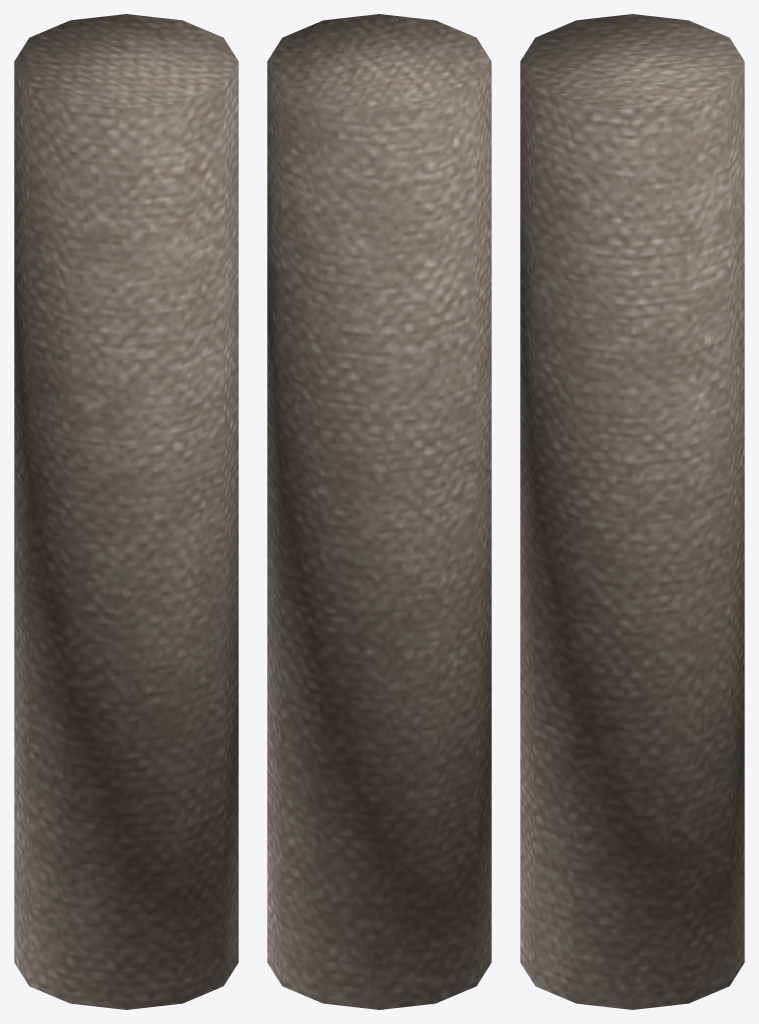
The model's file is KapiMenteşe.fbx.
The picture shows the model from 3 angles, left to right: view 1: azimuth 30°, elevation 25°; view 2: azimuth 150°, elevation 25°; view 3: azimuth 270°, elevation 25°; orthographic projection.
Parts seen in each view (by area): view 1: Circle; view 2: Circle; view 3: Circle.
Boxes of the visible parts, <box> form: Circle: <box>14,14,238,1009</box>; Circle: <box>267,14,491,1009</box>; Circle: <box>520,14,744,1009</box>.
Size of the model in its own units: 3.14 by 13.91 by 3.14.
1 material, 1 textured.
